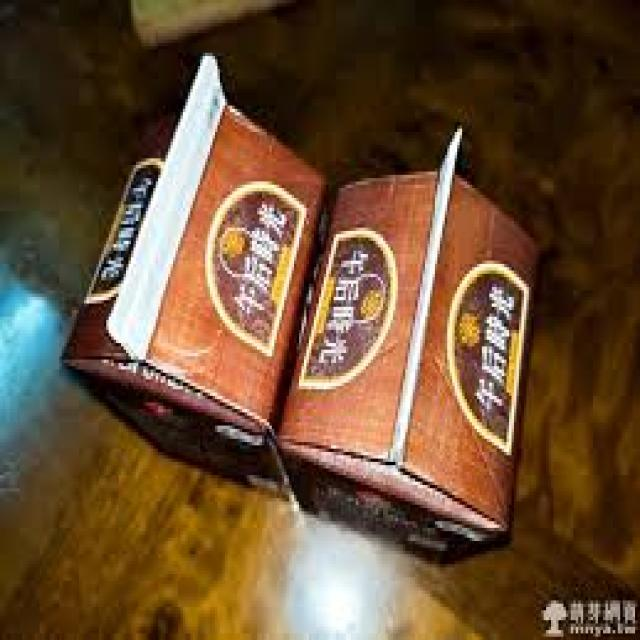Known_ChocoMilkTea: (292, 150, 536, 561), (93, 98, 279, 500)
